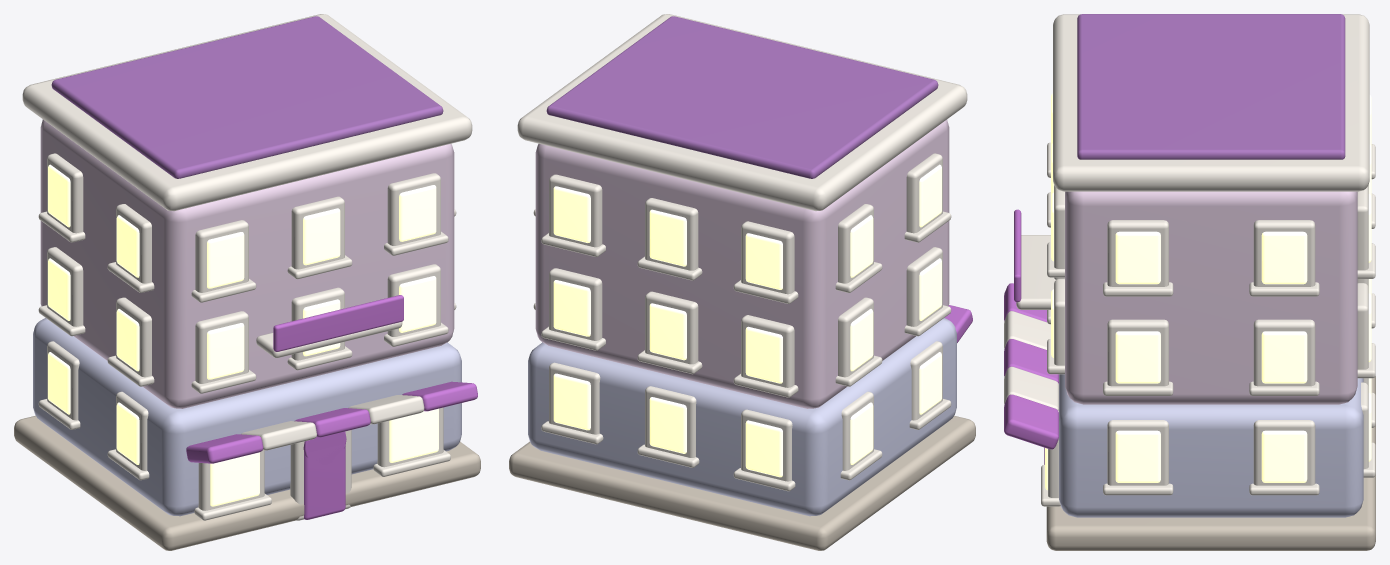
3 renders of one model, left to right at view 1: azimuth 30°, elevation 25°; view 2: azimuth 150°, elevation 25°; view 3: azimuth 270°, elevation 25°, orthographic. The views are drawn at different scales.
Visible parts, largest first — view 1: Cube; view 2: Cube; view 3: Cube.
Boxes of the visible parts, x1,y1,x2,y2 form: Cube: (14, 14, 480, 550); Cube: (509, 14, 975, 550); Cube: (1004, 14, 1375, 550).
Size of the model in its own units: 0.64 by 0.7055 by 0.61.
